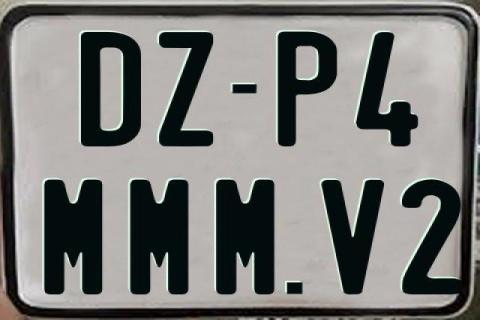0: (400, 178, 459, 302), (354, 31, 418, 145)
D: (79, 30, 140, 150)
M: (44, 179, 107, 299), (129, 177, 189, 293), (215, 177, 274, 292)
P: (275, 31, 338, 147)
V: (321, 180, 387, 298)
Z: (156, 30, 211, 146)
